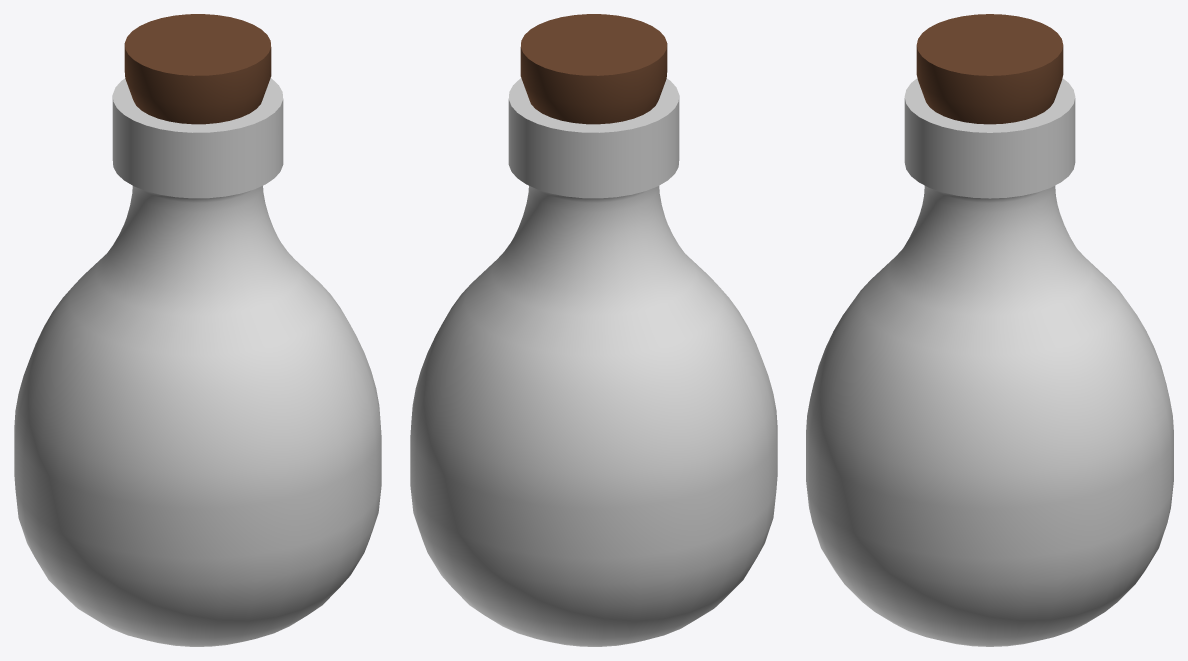
The model's file is healing.fbx.
The picture shows the model from 3 angles, left to right: view 1: azimuth 30°, elevation 25°; view 2: azimuth 150°, elevation 25°; view 3: azimuth 270°, elevation 25°; orthographic projection.
Parts seen in each view (by area): view 1: Cylinder; view 2: Cylinder; view 3: Cylinder.
Boxes of the visible parts, x1,y1,x2,y2 form: Cylinder: (14,14,381,646); Cylinder: (410,14,777,646); Cylinder: (806,14,1173,646).
Size of the model in its own units: 28.11 by 48.5 by 28.11.
